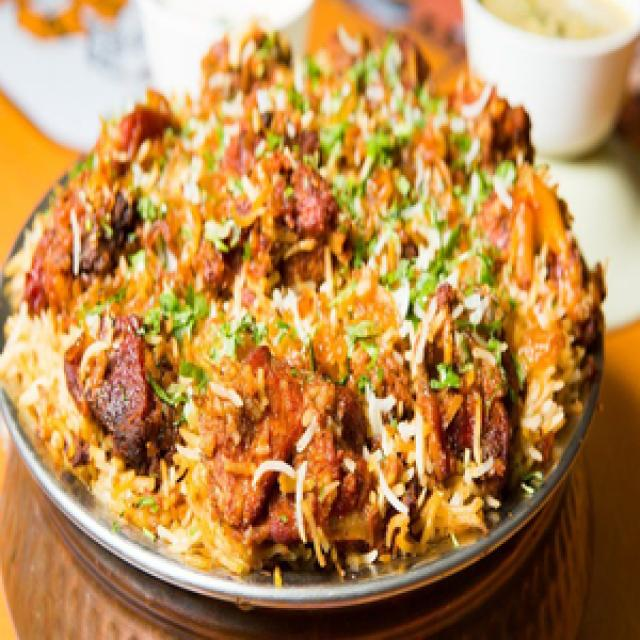chicken biriyani: (4, 14, 621, 625)
